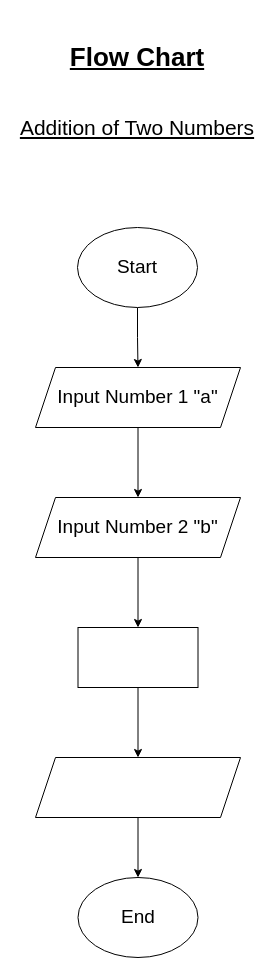
The diagram is 274 pixels wide and 975 high, and some of its shapes have lost their labels. Here are the shapes that lost their labels. From the top down, the box of each, then its label:
(77, 626, 198, 688): sum = a + b
(34, 756, 240, 818): Print sum
